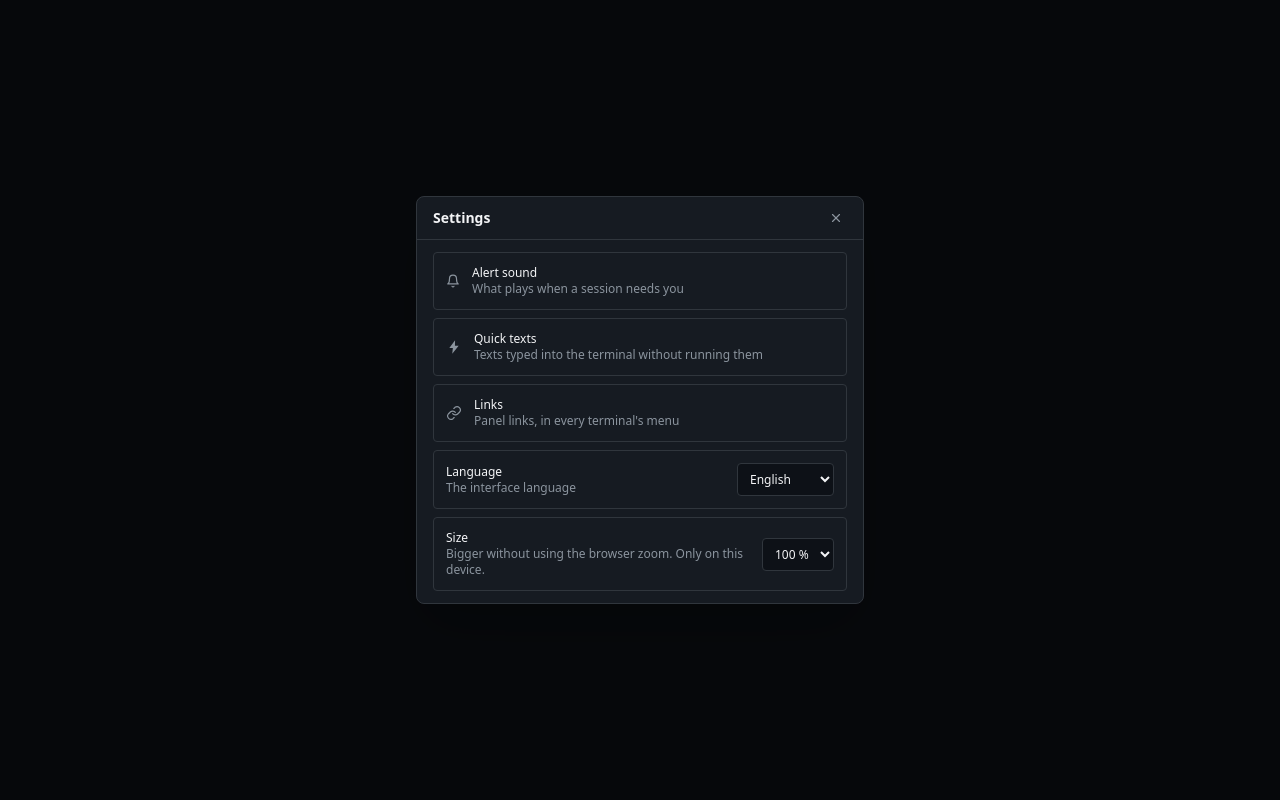
Test: Menú de ajustes › el idioma se cambia desde aquí y la interfaz lo obedece
Select "Español" in the dropdown named "Language" at (786, 480), box [737,463,834,496]
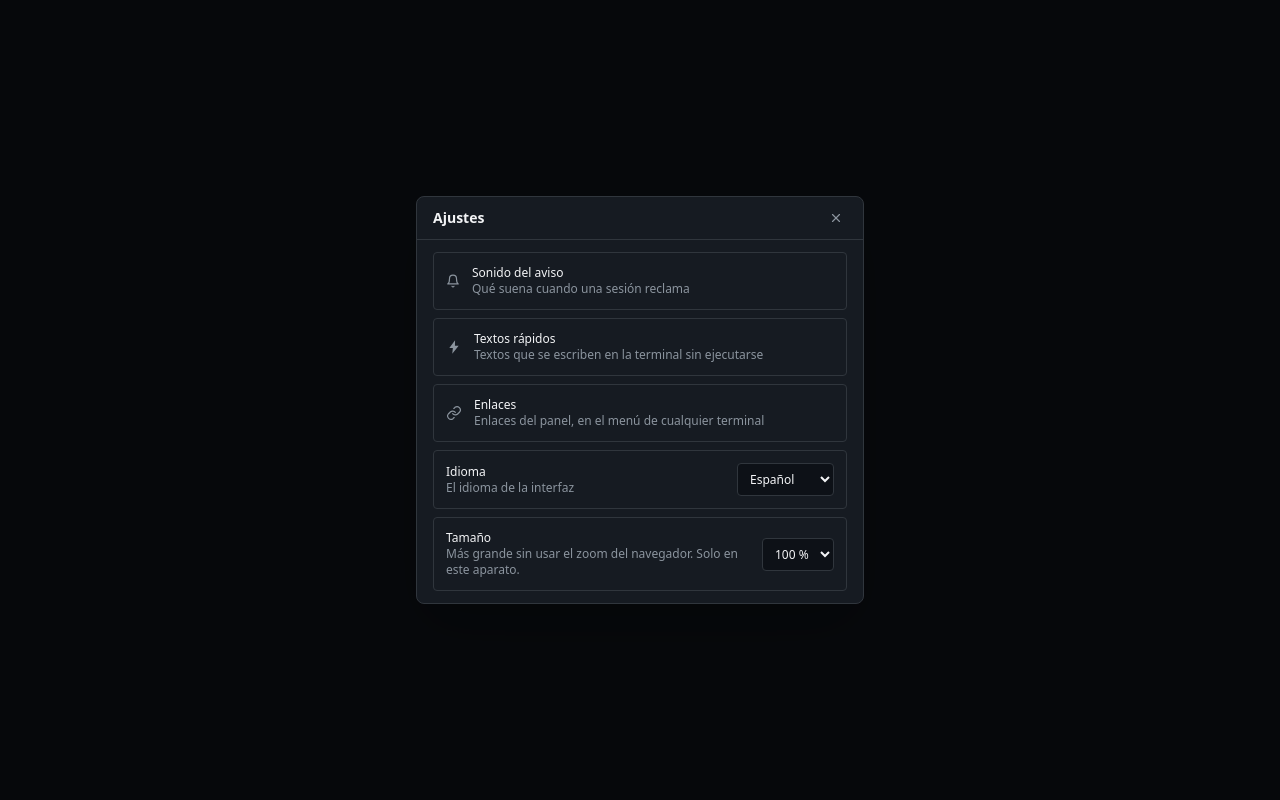
Result: the text "Textos rápidos" is shown at [474,330,556,347]
